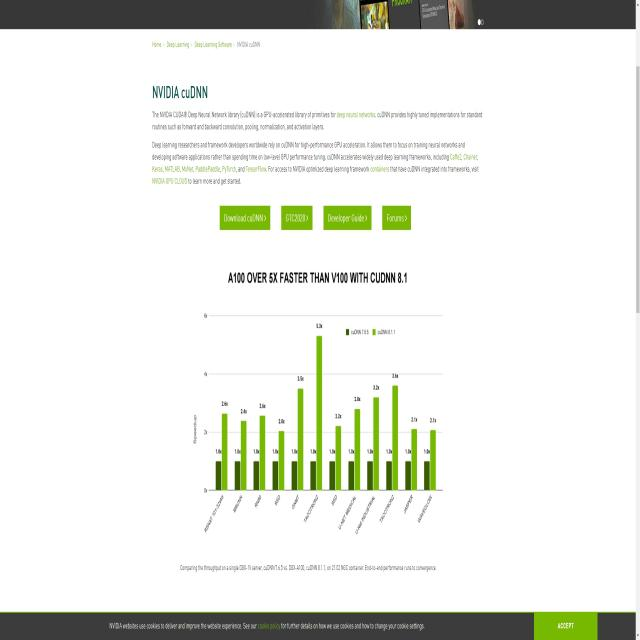content: (175, 560, 439, 577)
menu-bar: (149, 28, 266, 63)
